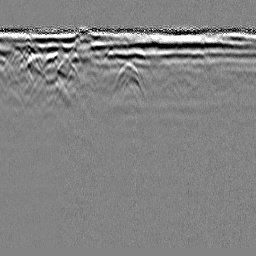cavity: (108, 61, 147, 98)
